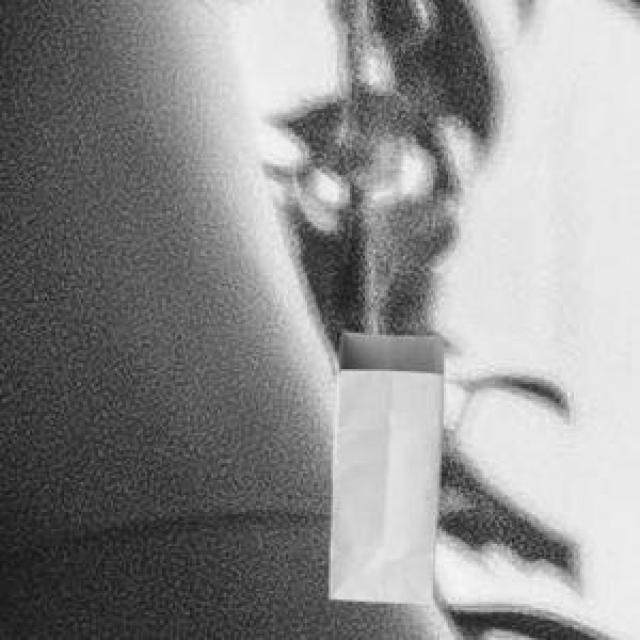paper: (324, 329, 440, 600)
